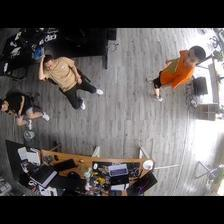normal: (145, 45, 206, 102)
